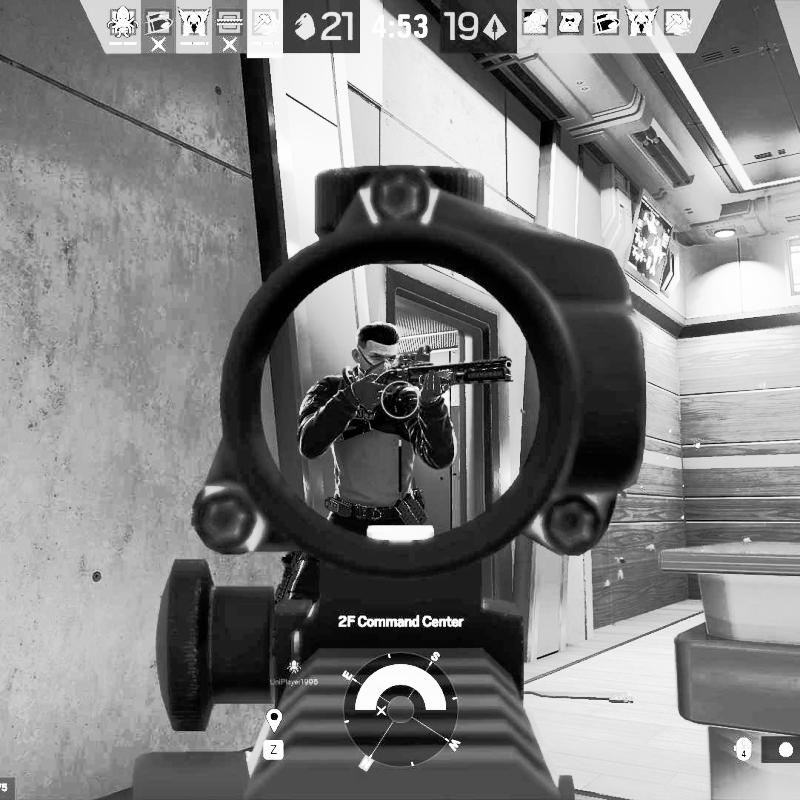Character: (274, 319, 519, 604)
Head: (352, 321, 400, 379)
